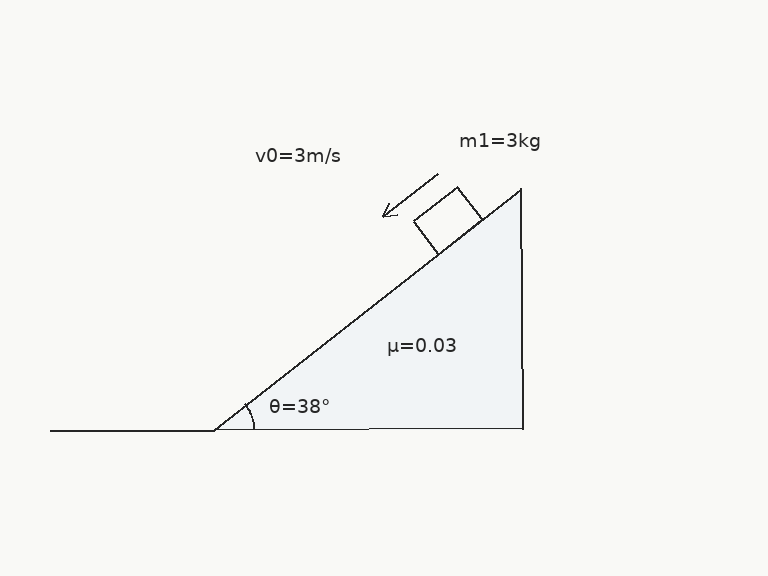block: (411, 185, 484, 256)
ramp: (212, 187, 523, 431)
